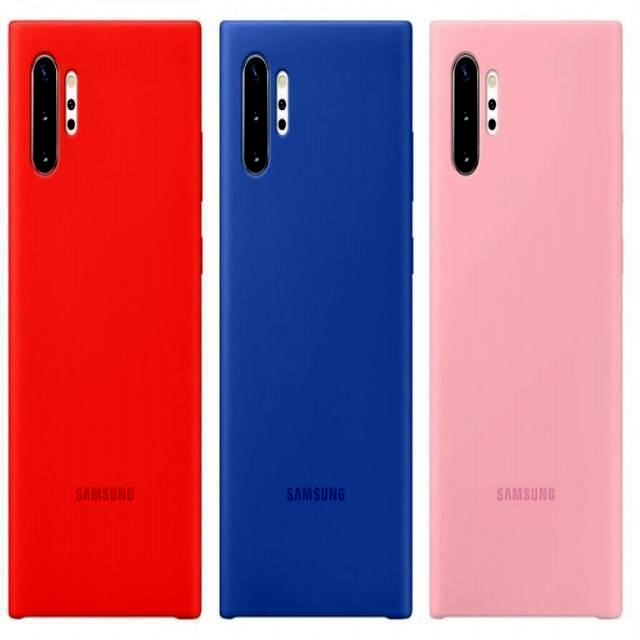lens_back: (441, 46, 480, 92), (447, 144, 483, 178), (242, 53, 274, 91), (241, 98, 272, 135), (449, 101, 482, 131), (275, 92, 296, 139), (485, 94, 506, 137), (29, 140, 55, 173), (241, 145, 272, 171), (28, 102, 54, 131), (32, 56, 54, 90), (64, 90, 81, 134)
phone: (6, 15, 206, 623), (217, 14, 414, 626), (430, 15, 626, 618)
